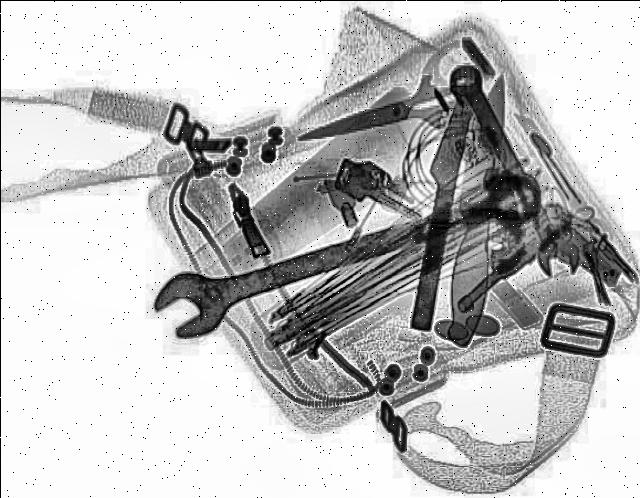Knife: (402, 63, 482, 329), (443, 72, 517, 346), (286, 70, 466, 160)
Wrench: (140, 157, 562, 343)
